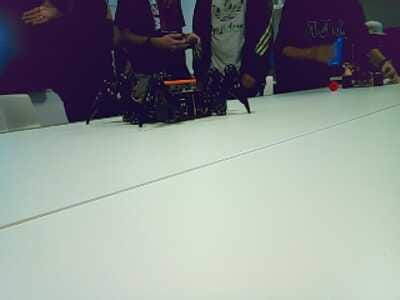bola_lejos: (329, 80, 340, 90)
hexapodo_ajeno: (112, 65, 244, 121)
